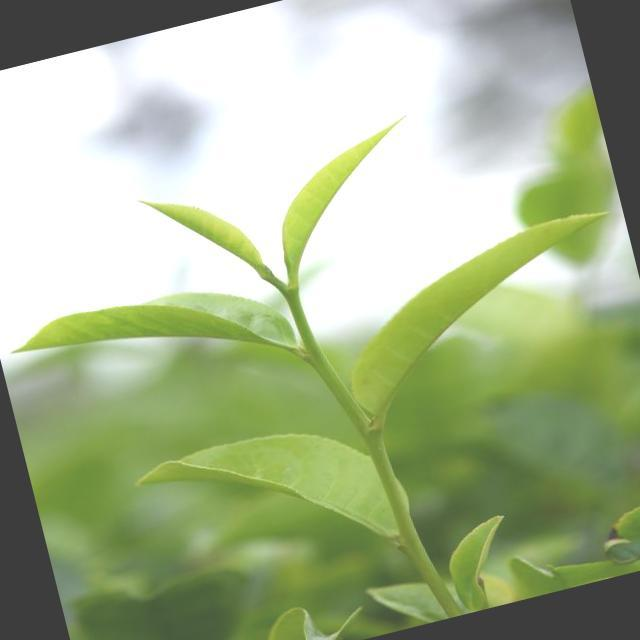Stem: (285, 295, 301, 309)
